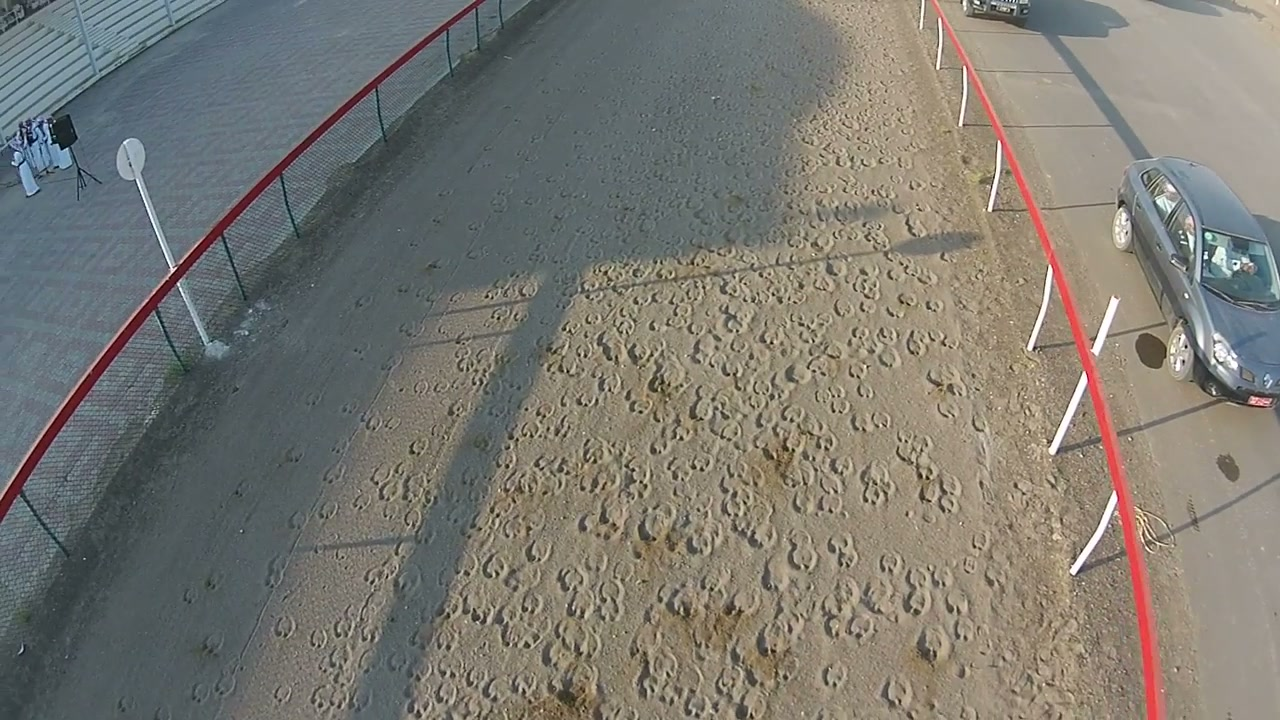animal_foot_print: (118, 0, 1125, 719)
